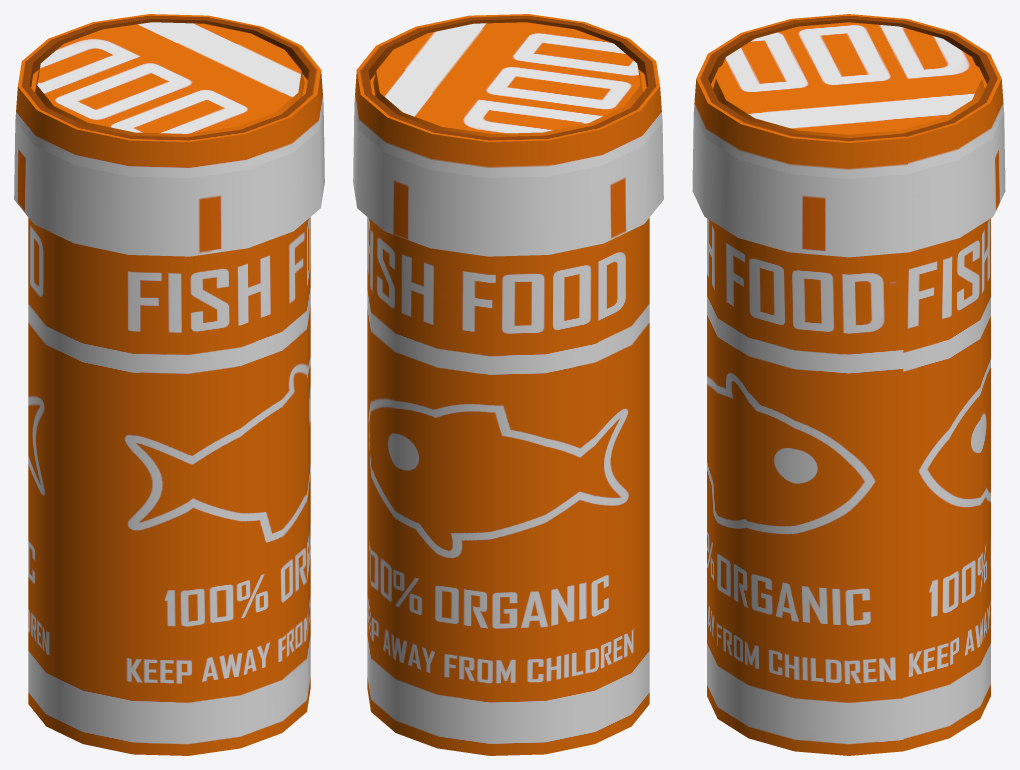
File: XanderFoong_medBottle.fbx
The picture shows the model from 3 angles, left to right: view 1: azimuth 30°, elevation 25°; view 2: azimuth 150°, elevation 25°; view 3: azimuth 270°, elevation 25°; orthographic projection.
Visible parts, largest first — view 1: medBottle; view 2: medBottle; view 3: medBottle.
Boxes of the visible parts, box(x1,y1,x2,y2) form: medBottle: box(14, 14, 324, 755); medBottle: box(353, 14, 663, 755); medBottle: box(692, 14, 1005, 755).
Size of the model in its own units: 0.052 by 0.1132 by 0.052.
